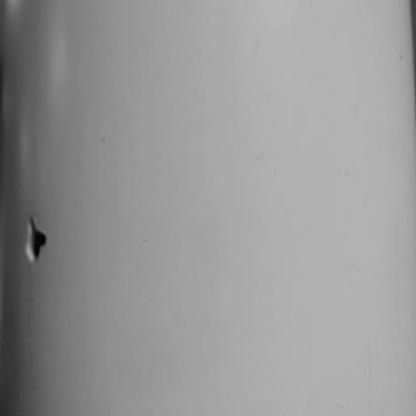kongdong: (22, 206, 53, 268)
